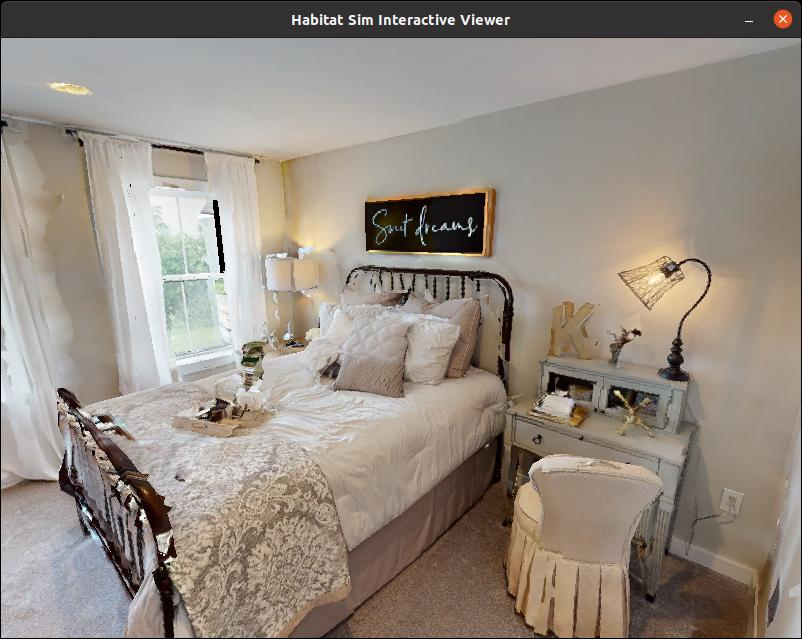bed: (35, 245, 522, 633)
chair: (481, 425, 661, 639)
